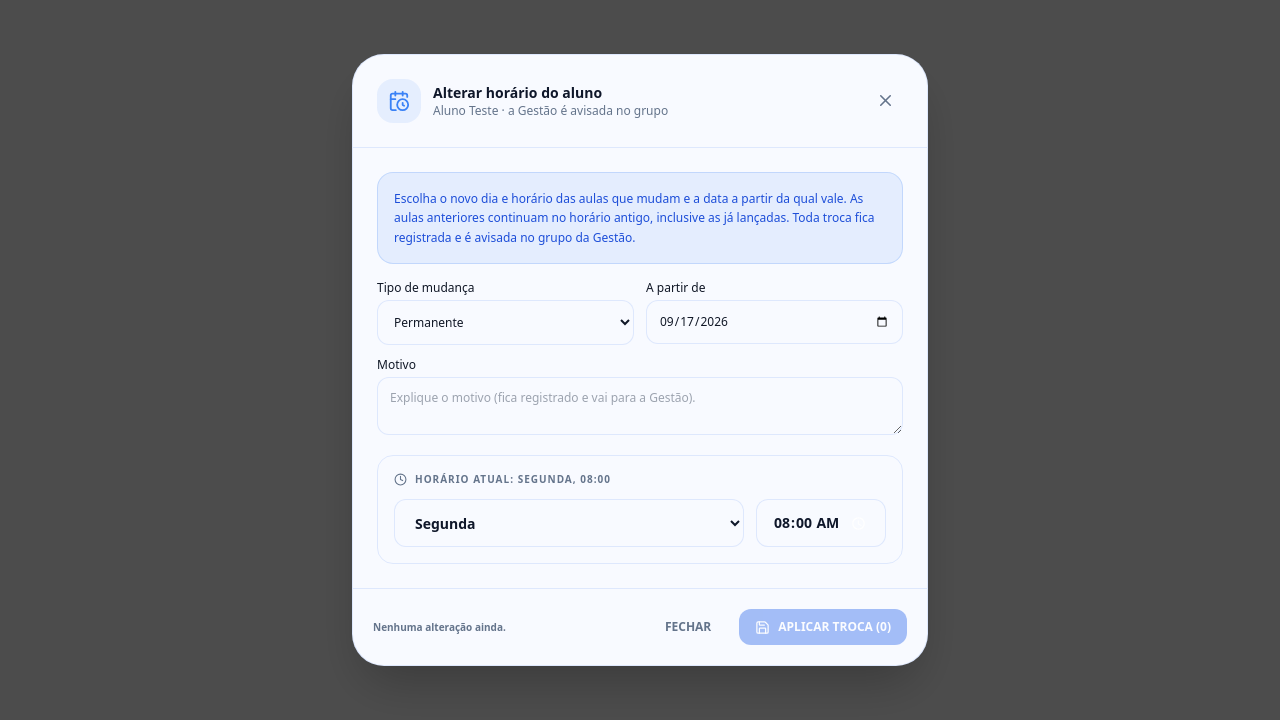
Scenario: professor altera o horário do próprio aluno › aplica a troca permanente direto e avisa que a Gestão foi informada
This screenshot has width=1280, height=720.
Step 1. Select "Terça" in the dropdown named "Dia proposto para Segunda 08:00" → [569, 523], box [394,499,744,547]
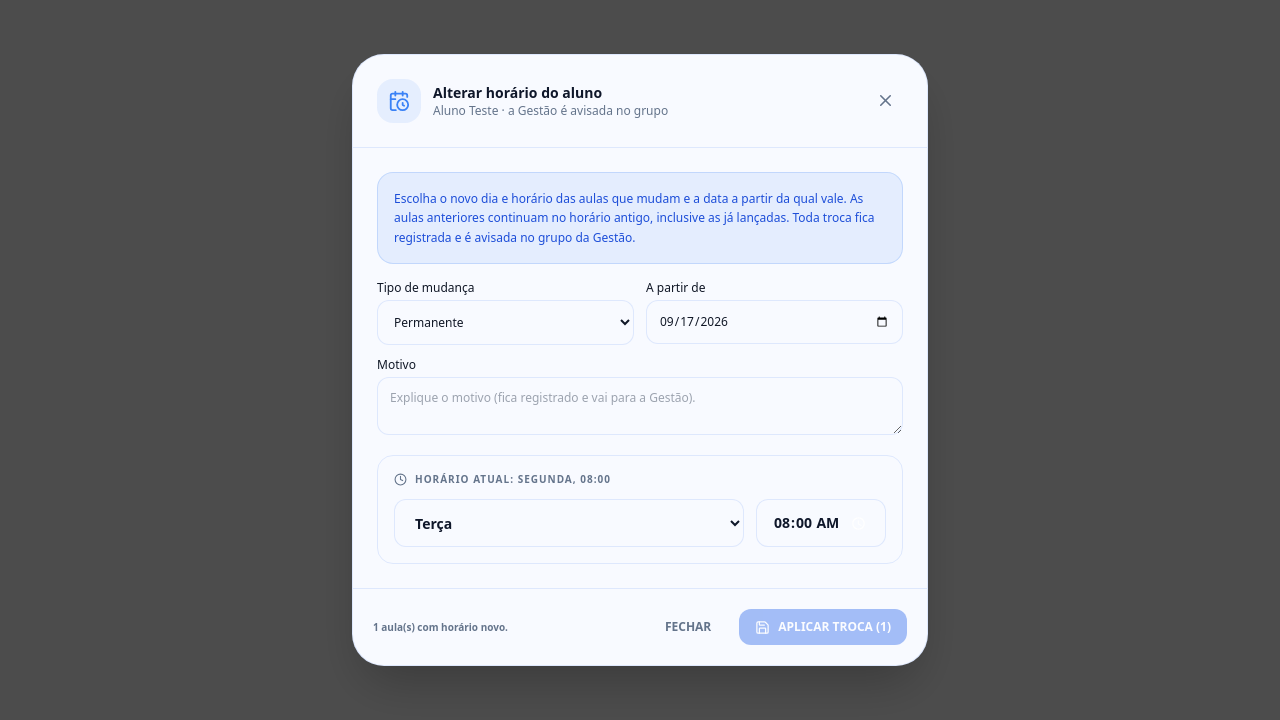
Step 2. Type "Aluno pediu para estudar de manhã." into the text box with placeholder "Explique o motivo (fica registrado e vai para a Gestão)." → [640, 406], box [377,377,903,435]
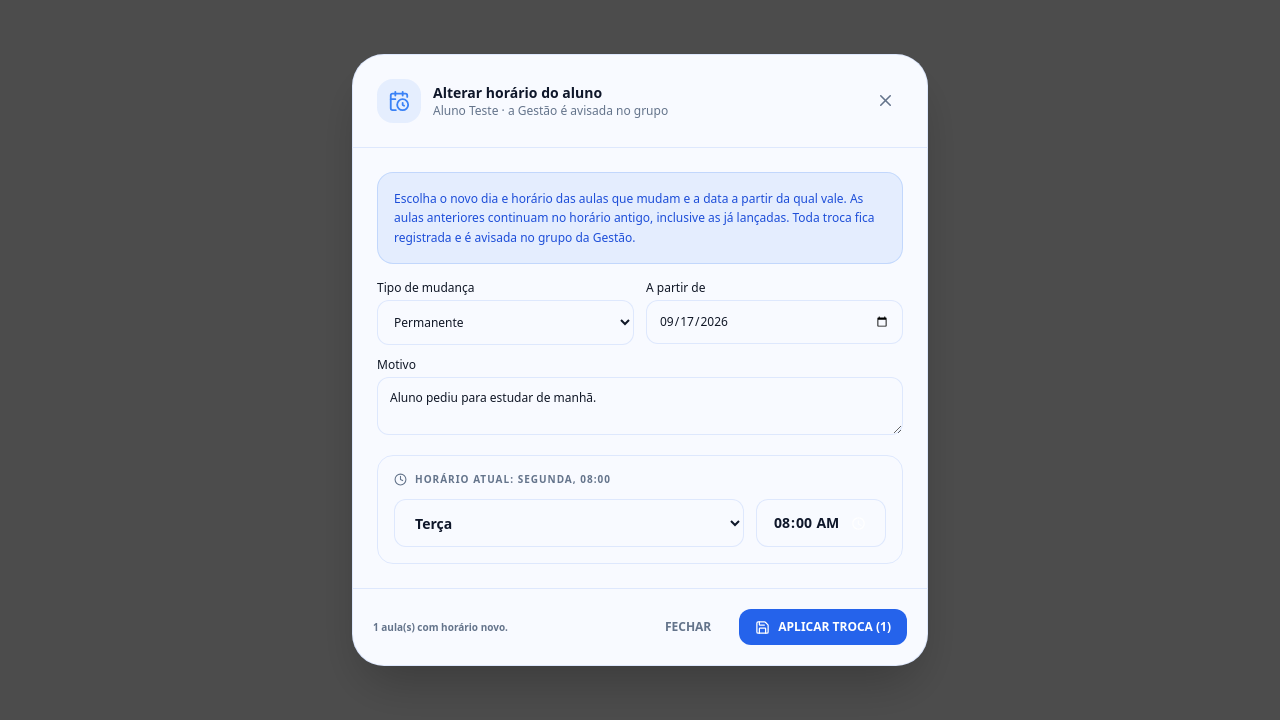
Step 3. Click the button "Aplicar troca (1)" → [823, 627], box [739,609,907,645]
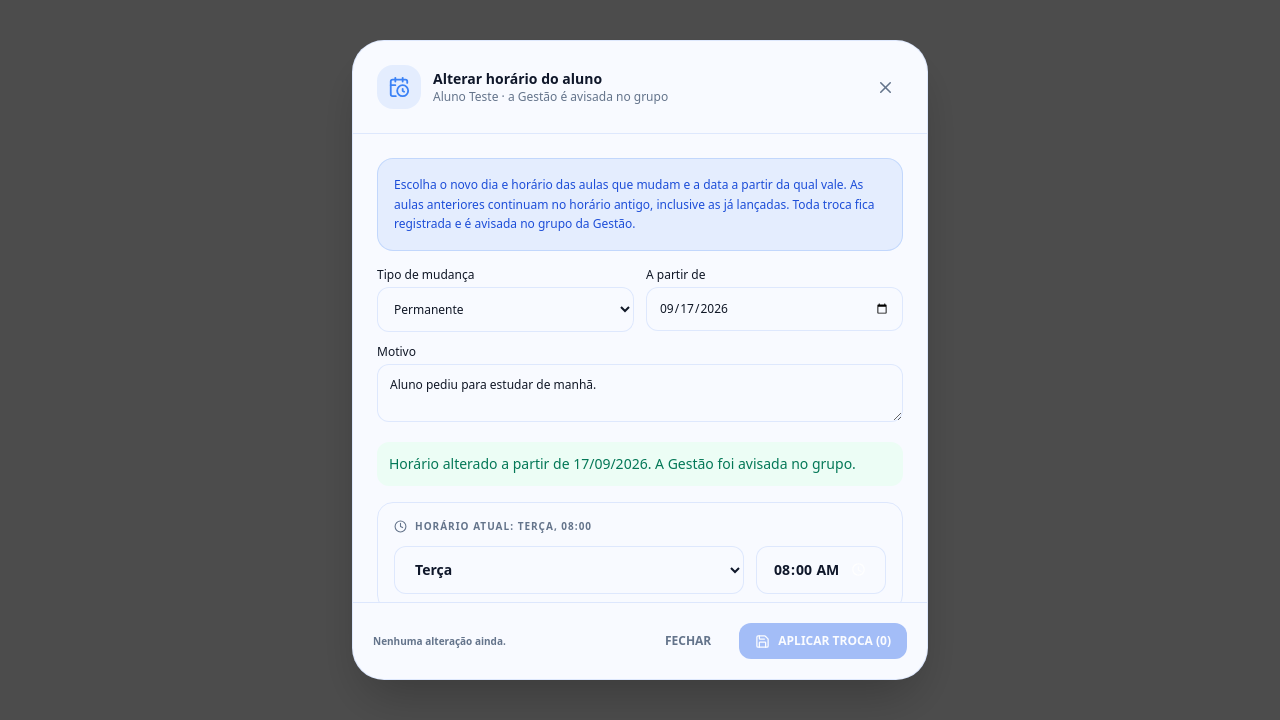
Expected: the message shows "A Gestão foi avisada no grupo", [389,454,856,472]
